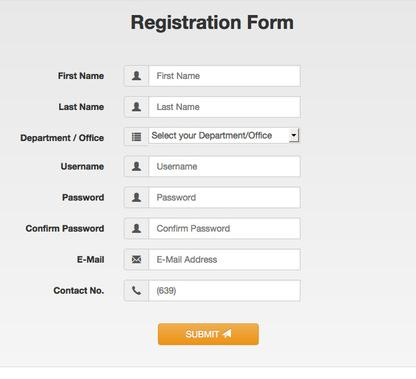button: (156, 321, 259, 346)
field: (145, 247, 302, 273), (146, 62, 302, 88), (146, 184, 304, 209), (145, 216, 302, 241), (147, 154, 305, 178), (145, 279, 303, 301), (146, 96, 302, 117), (147, 125, 301, 144)
field_with_label: (26, 215, 303, 242), (57, 60, 304, 89), (72, 245, 304, 274), (61, 152, 308, 179), (62, 183, 306, 210), (53, 277, 306, 303), (58, 94, 304, 119), (20, 124, 304, 145)
